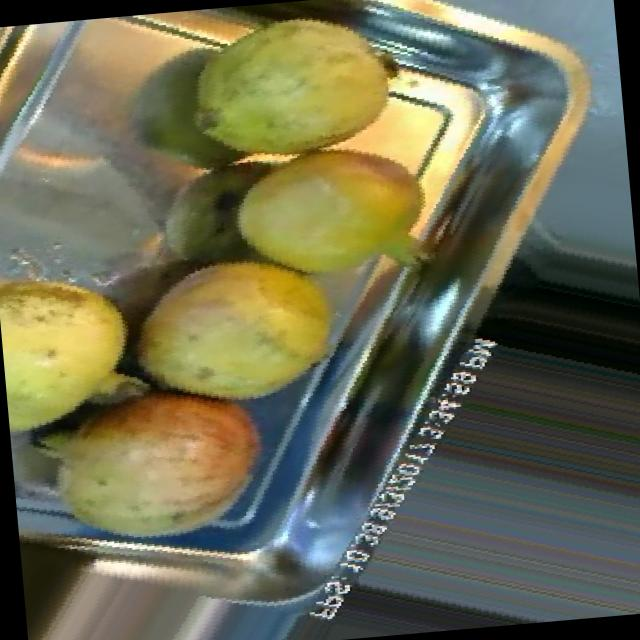fruit: (158, 0, 426, 198), (105, 227, 360, 433), (0, 245, 158, 449)
